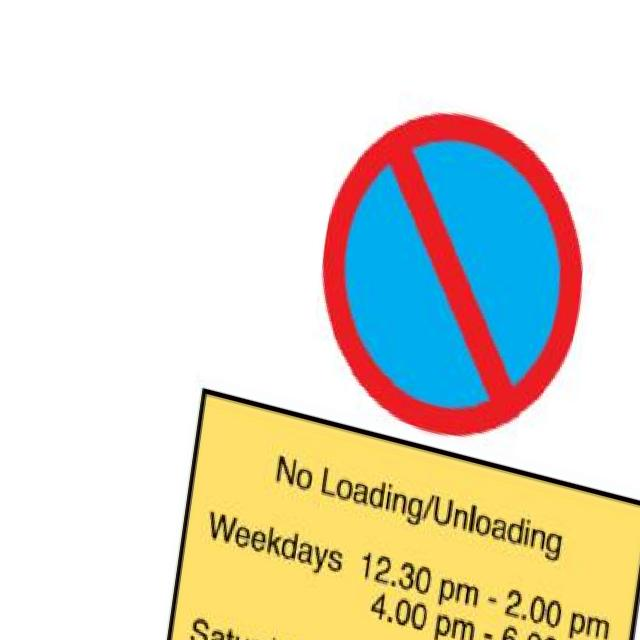forb_stopping: (325, 113, 586, 439)
